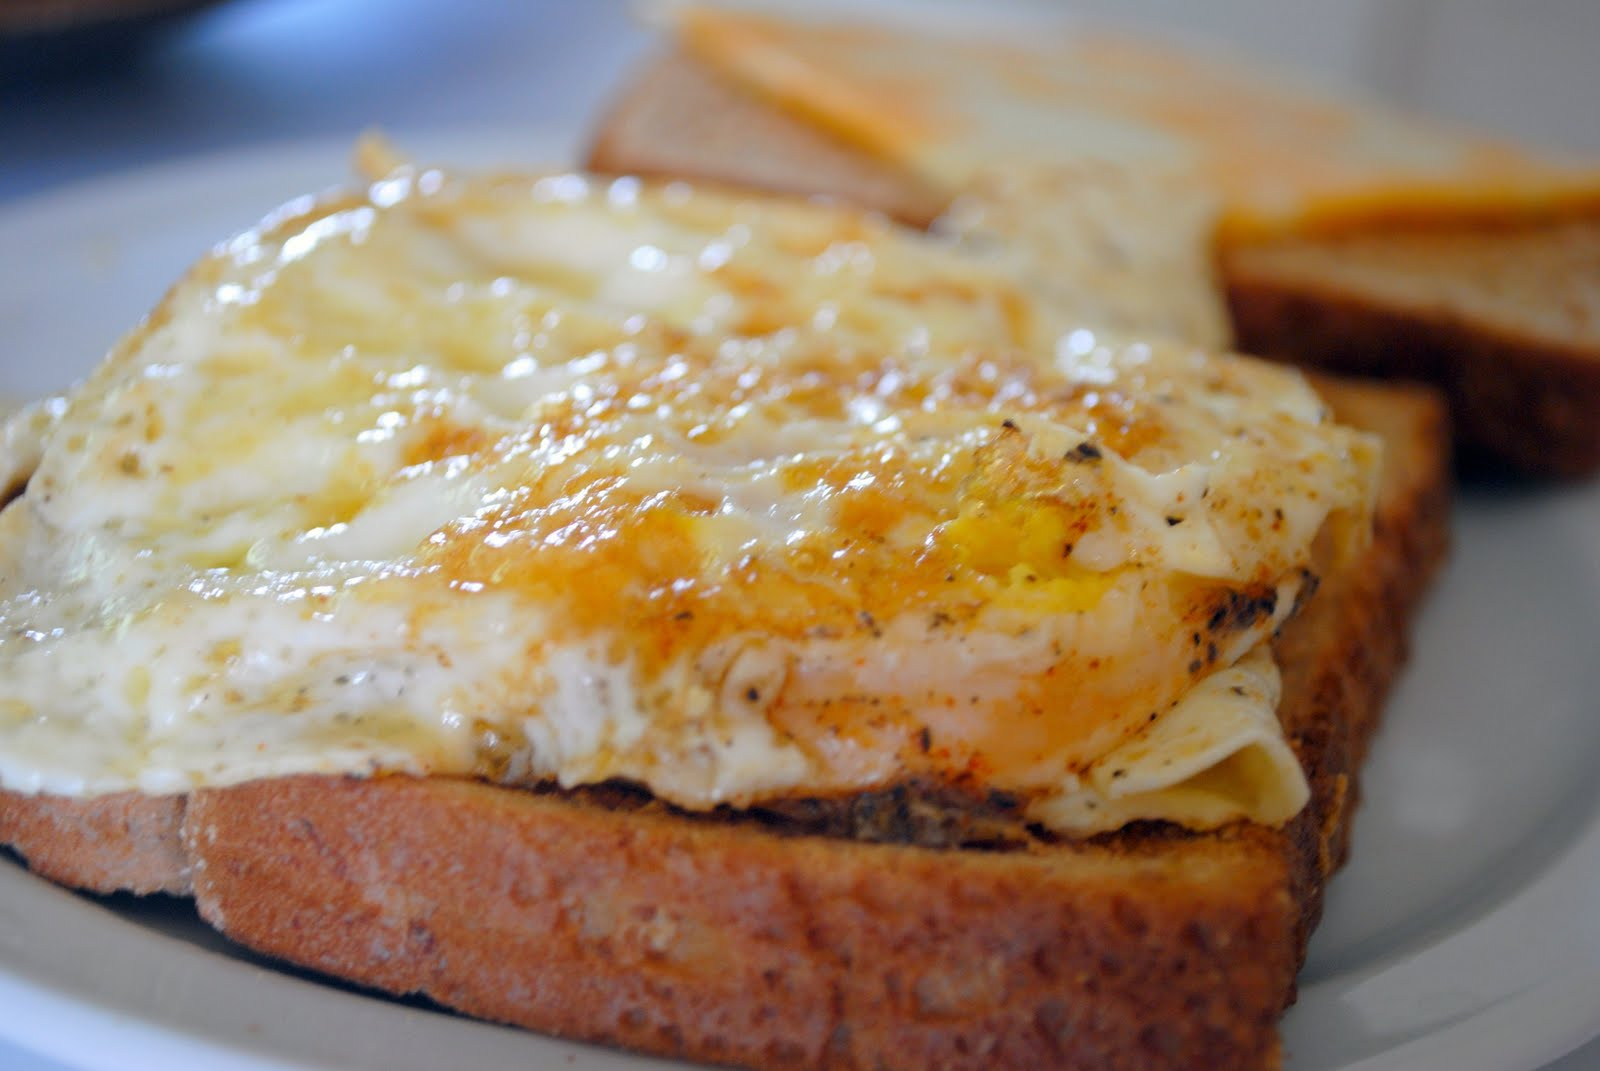fried egg: (25, 155, 1348, 825)
slice of bread: (13, 535, 1464, 1071)
